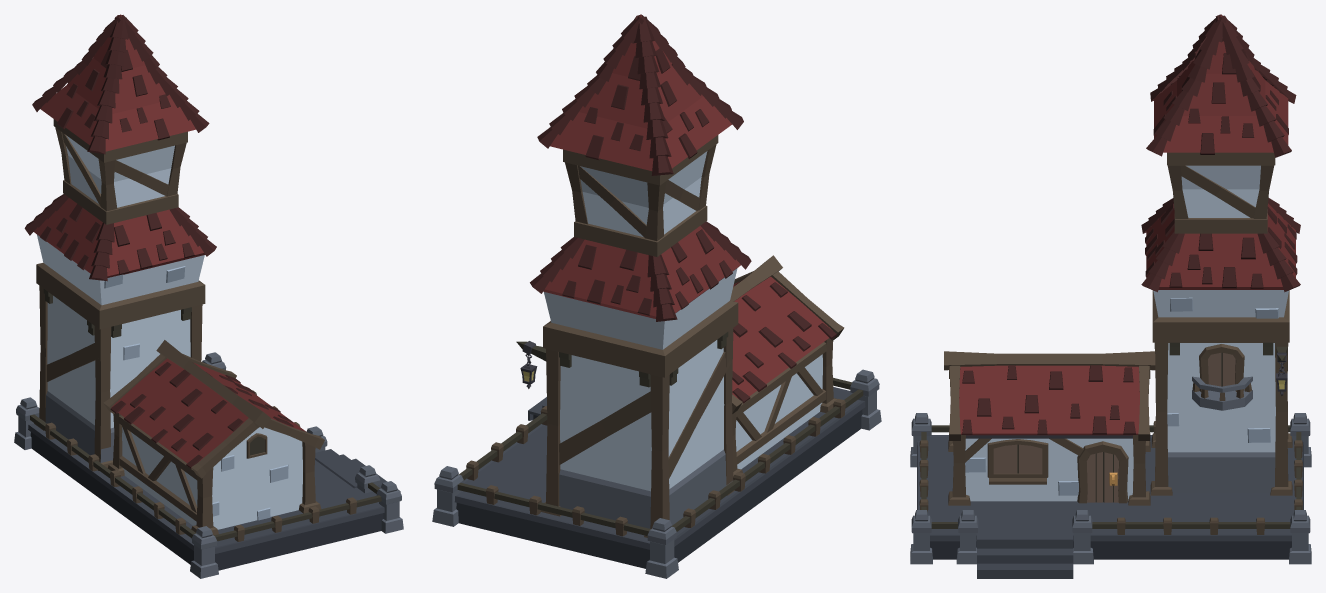
Rendered from temple.fbx.
3 renders of one model, left to right at view 1: azimuth 30°, elevation 25°; view 2: azimuth 150°, elevation 25°; view 3: azimuth 270°, elevation 25°, orthographic. The views are drawn at different scales.
Parts seen in each view (by area): view 1: polySurface403; view 2: polySurface403; view 3: polySurface403.
Part boxes in pixels (x1,y1,x2,y2): polySurface403: (14, 14, 403, 578); polySurface403: (432, 14, 881, 578); polySurface403: (910, 14, 1311, 578).
Bounding box in the file's own units: 27.3 × 50.04 × 38.15.
